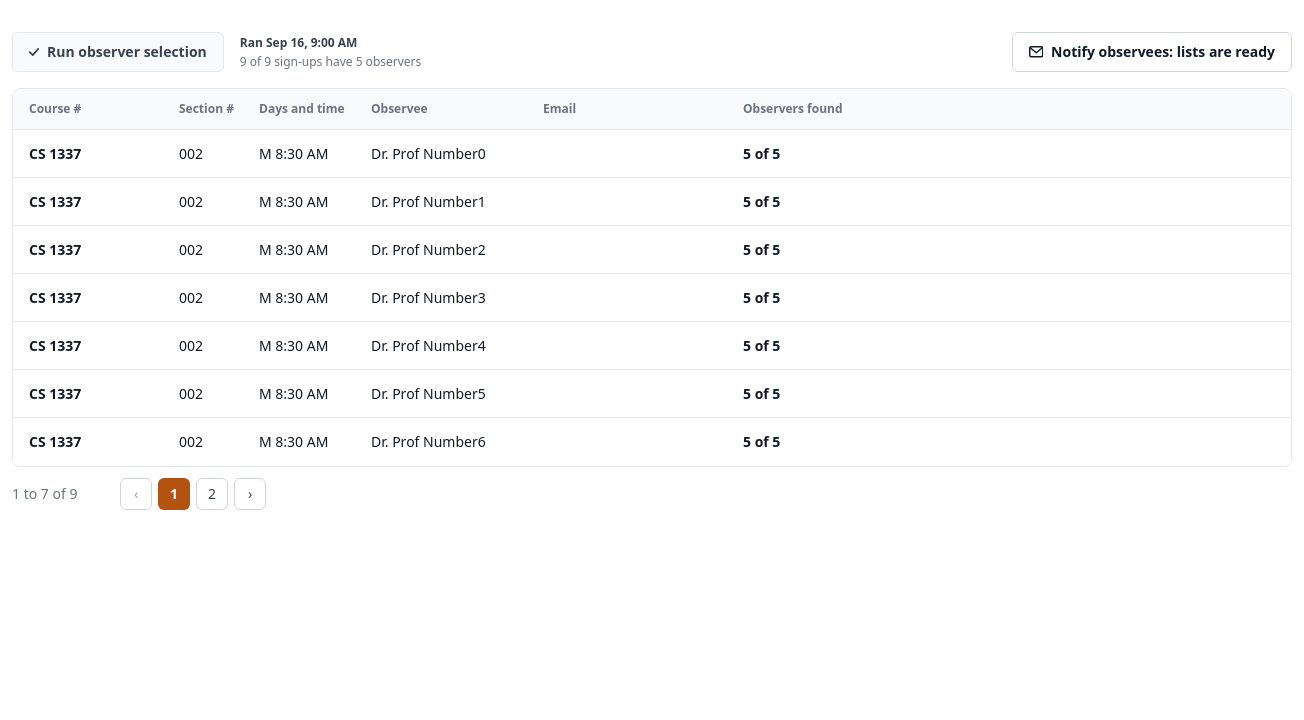
Sign-up requests page › pages the table seven rows at a time
This screenshot has width=1304, height=720.
Expected: the text "1 to 7 of 9" is shown, 12,484 -> 77,503
Click the button named "Page 2" at (212, 494), box 196,478 -> 228,510
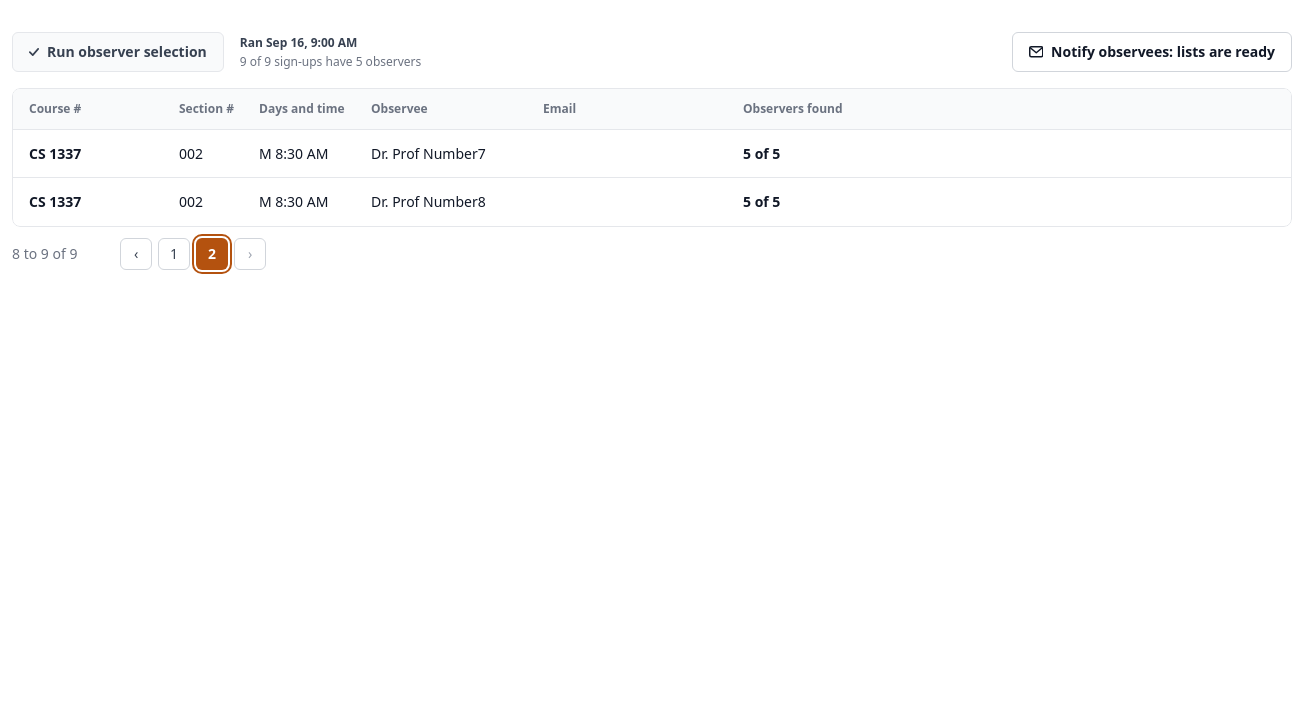
Now the text "8 to 9 of 9" is shown, box 12,244 -> 77,263
Now the text "Dr. Prof Number8" is shown, box 371,192 -> 486,211
